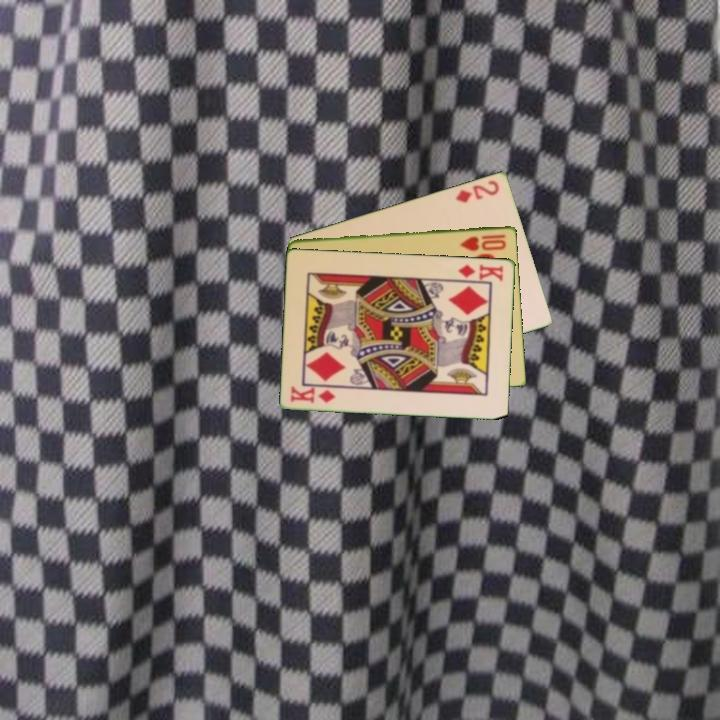10h: (457, 231, 509, 253)
2d: (452, 176, 502, 205)
Kd: (455, 261, 506, 284), (287, 383, 338, 406)
